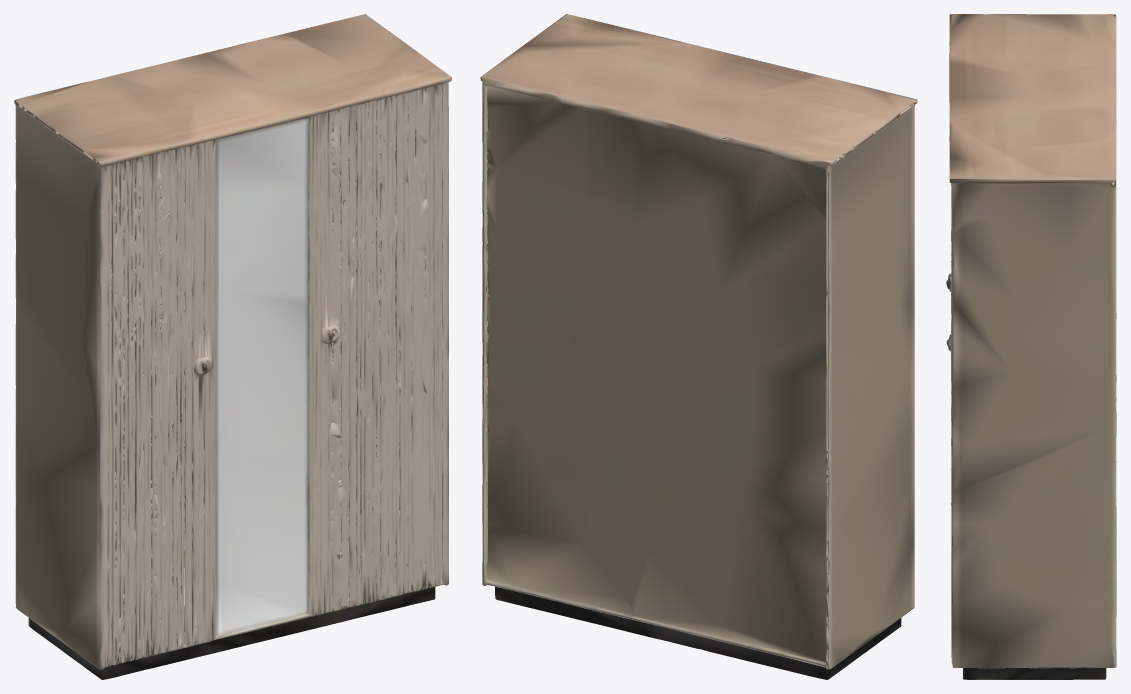
File: fm_wardrobe_mirror.glb
3 renders of one model, left to right at view 1: azimuth 30°, elevation 25°; view 2: azimuth 150°, elevation 25°; view 3: azimuth 270°, elevation 25°, orthographic. The views are drawn at different scales.
Visible parts, largest first — view 1: geometry_0; view 2: geometry_0; view 3: geometry_0.
Part boxes in pixels (x1,y1,x2,y2): geometry_0: (14, 14, 451, 679); geometry_0: (480, 14, 917, 679); geometry_0: (946, 14, 1116, 679).
Size of the model in its own units: 0.7029 by 1 by 0.3058.
1 material, 1 textured.
